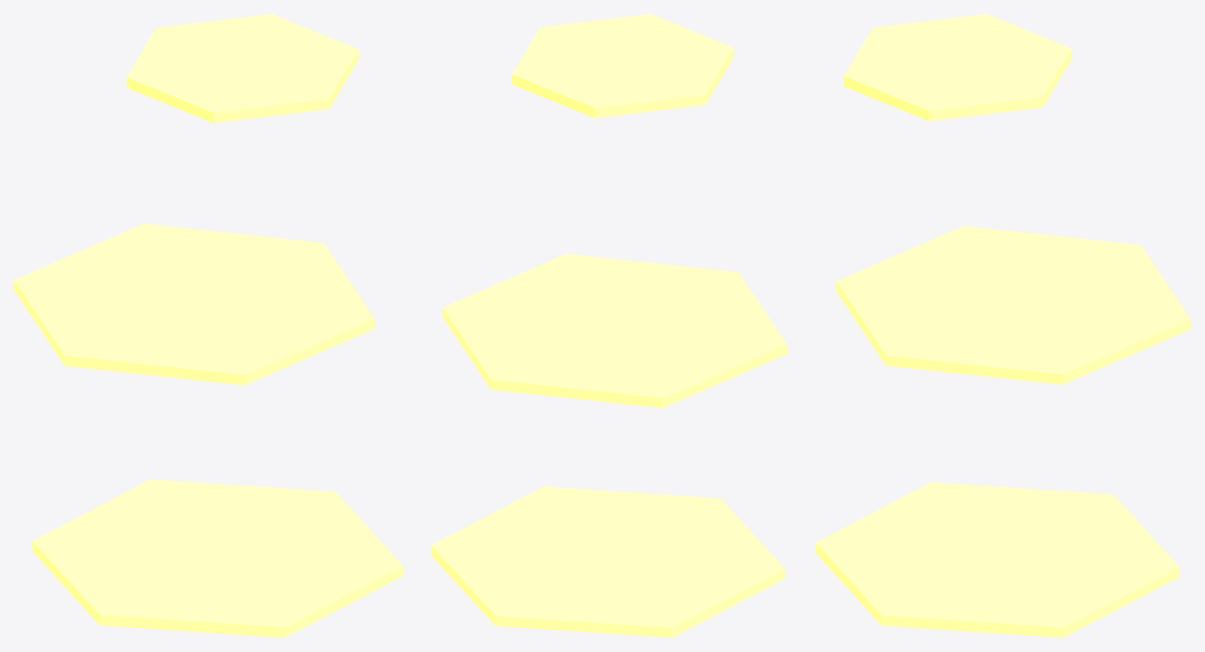
File: Facet_A.glb
The picture shows the model from 3 angles, left to right: view 1: azimuth 30°, elevation 25°; view 2: azimuth 150°, elevation 25°; view 3: azimuth 270°, elevation 25°; orthographic projection. The views are drawn at different scales.
Parts seen in each view (by area): view 1: Facet; view 2: Facet; view 3: Facet.
Boxes of the visible parts, x1,y1,x2,y2 form: Facet: (14, 14, 402, 637); Facet: (431, 14, 786, 637); Facet: (815, 14, 1190, 637).
Size of the model in its own units: 9.62 by 14.69 by 9.89.
